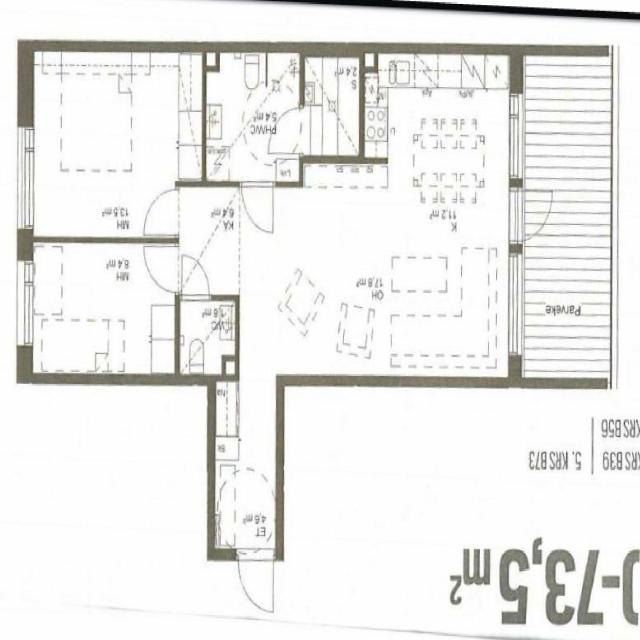door: (508, 190, 558, 241), (238, 549, 274, 612), (143, 190, 180, 236), (241, 180, 273, 233), (143, 246, 179, 292), (268, 107, 303, 154), (182, 254, 210, 301)
